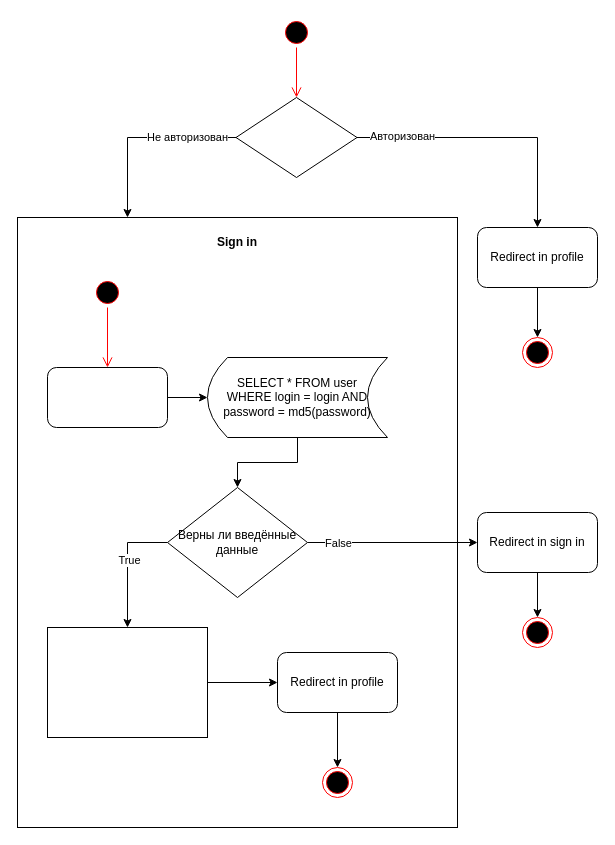
The diagram is 615 pixels wide and 845 high, and some of its shapes have lost their labels. Here are the shapes that lost their labels. From the top down, the centre of each, then its label:
At point 296,137: "Проверка авторизации".
At point 107,397: "Login Password".
At point 127,682: "Create cookie + user_token: token + user_id: id + user_login: login".
